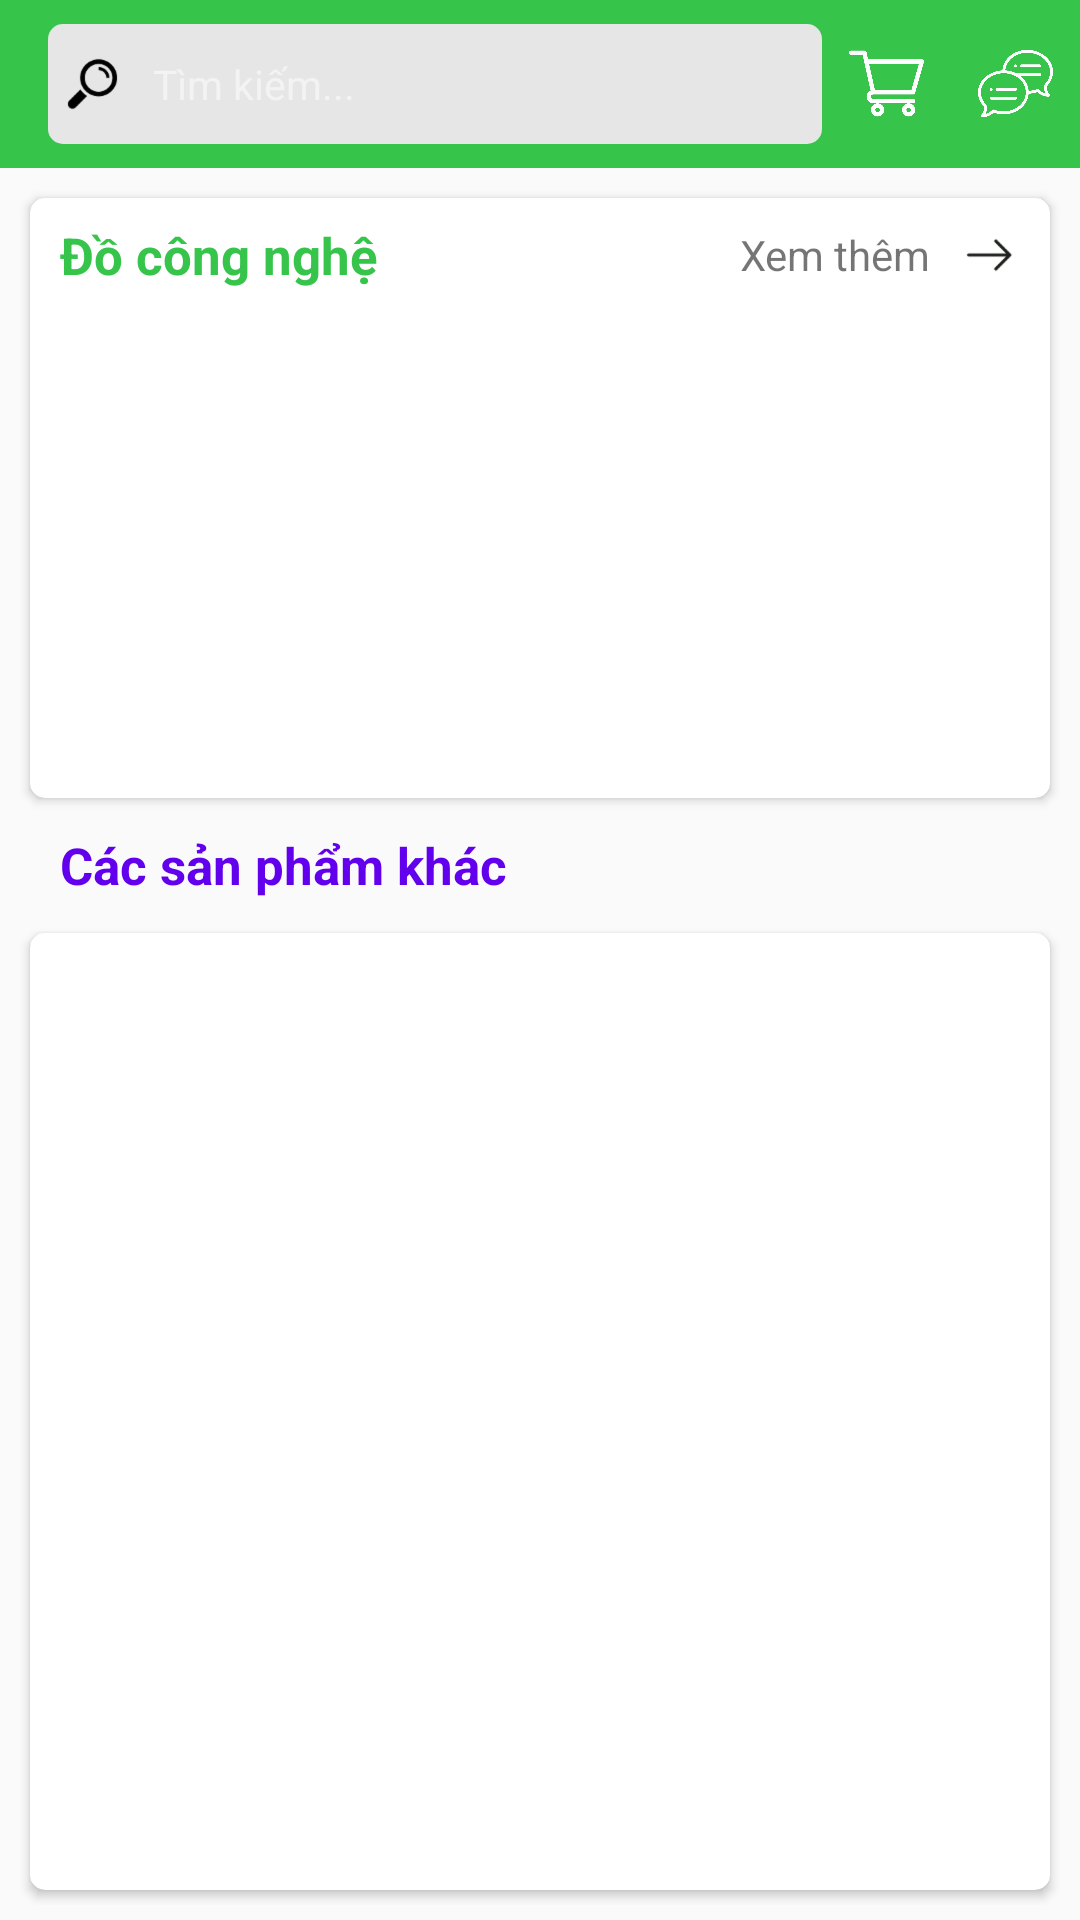

Where to tap for icons on this 1080x1920 app screen, as [x,y]:
chat: [1015,83]
shopping cart: [886,83]
